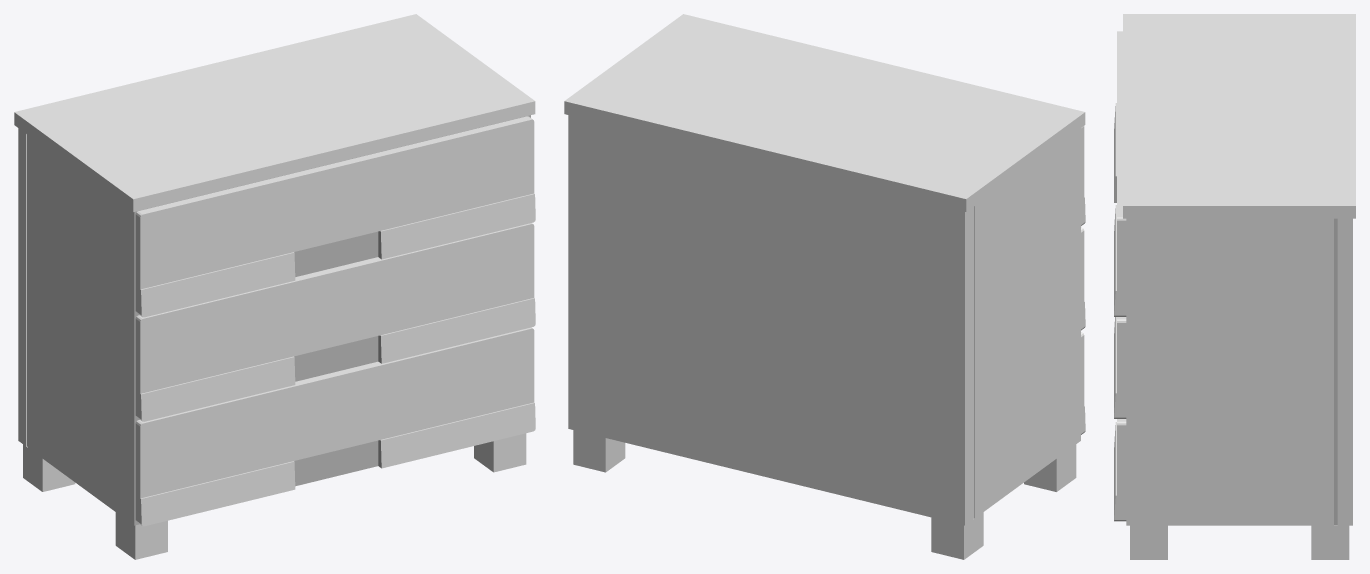
File: chest.gltf
3 views of the same model, side by side, from view 1: azimuth 30°, elevation 25°; view 2: azimuth 150°, elevation 25°; view 3: azimuth 270°, elevation 25° (orthographic). The views are drawn at different scales.
Visible parts, largest first — view 1: chest; view 2: chest; view 3: chest.
Boxes of the visible parts, x1,y1,x2,y2 form: chest: (14,14,535,559); chest: (564,14,1085,559); chest: (1114,14,1355,559).
Size of the model in its own units: 0.75 by 0.65 by 0.3994.
2 materials, 2 textured.
